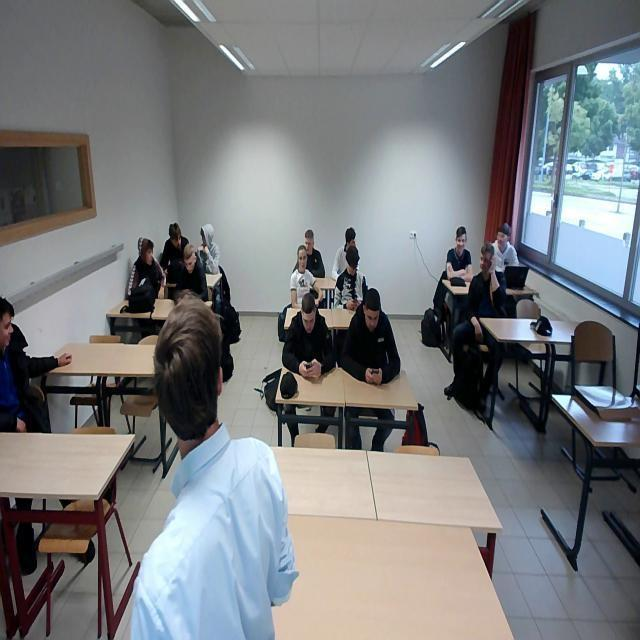phone_use: (340, 287, 398, 383), (281, 292, 333, 376), (333, 244, 366, 309)
